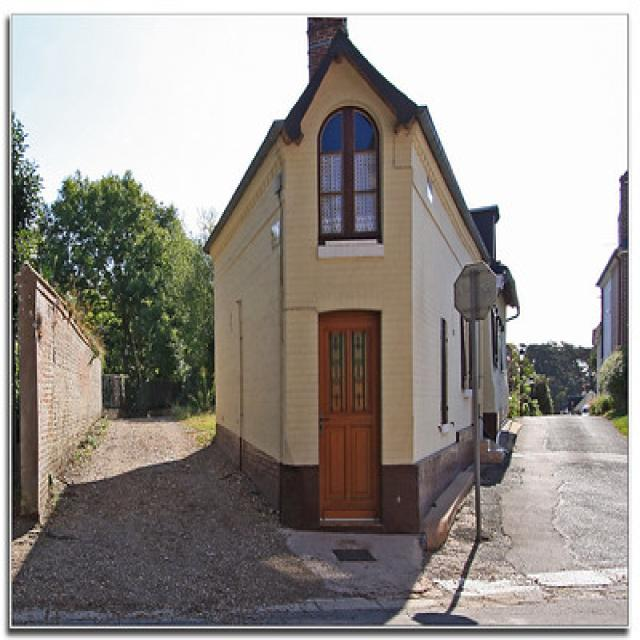building: (203, 34, 517, 535)
